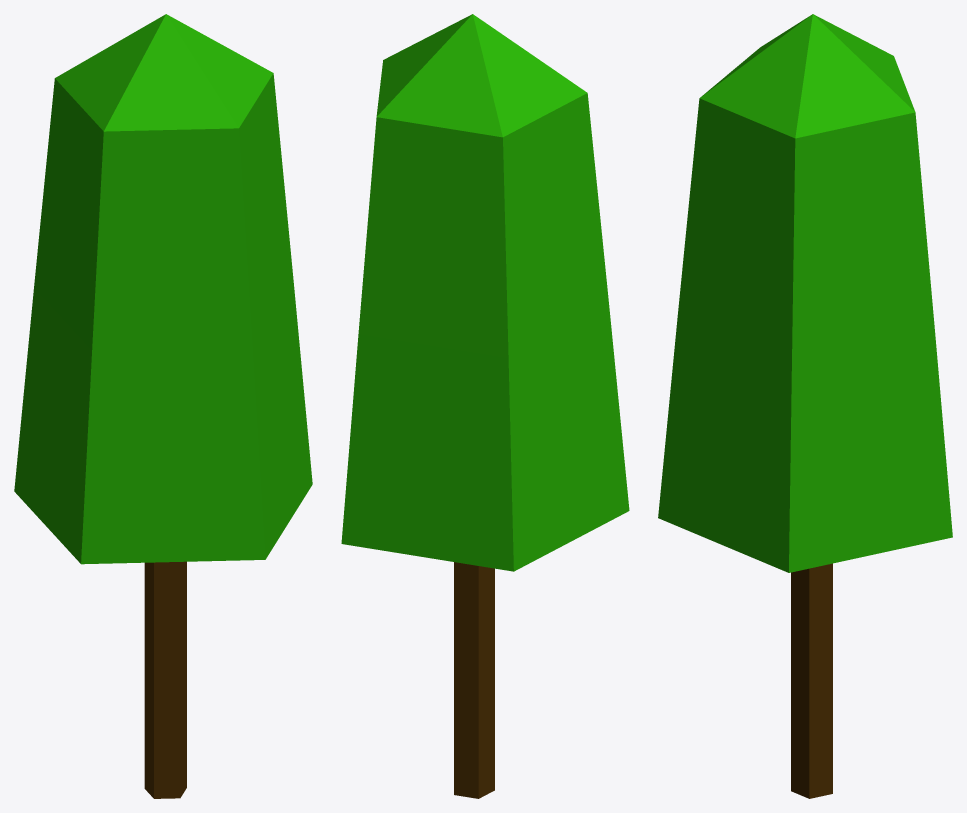
The model's file is Tree_5.fbx.
3 renders of one model, left to right at view 1: azimuth 30°, elevation 25°; view 2: azimuth 150°, elevation 25°; view 3: azimuth 270°, elevation 25°, orthographic.
Visible parts, largest first — view 1: Tree5; view 2: Tree5; view 3: Tree5.
Boxes of the visible parts, x1,y1,x2,y2 form: Tree5: [14, 14, 312, 798]; Tree5: [341, 14, 629, 798]; Tree5: [658, 14, 952, 798].
Size of the model in its own units: 122 by 353 by 122.
